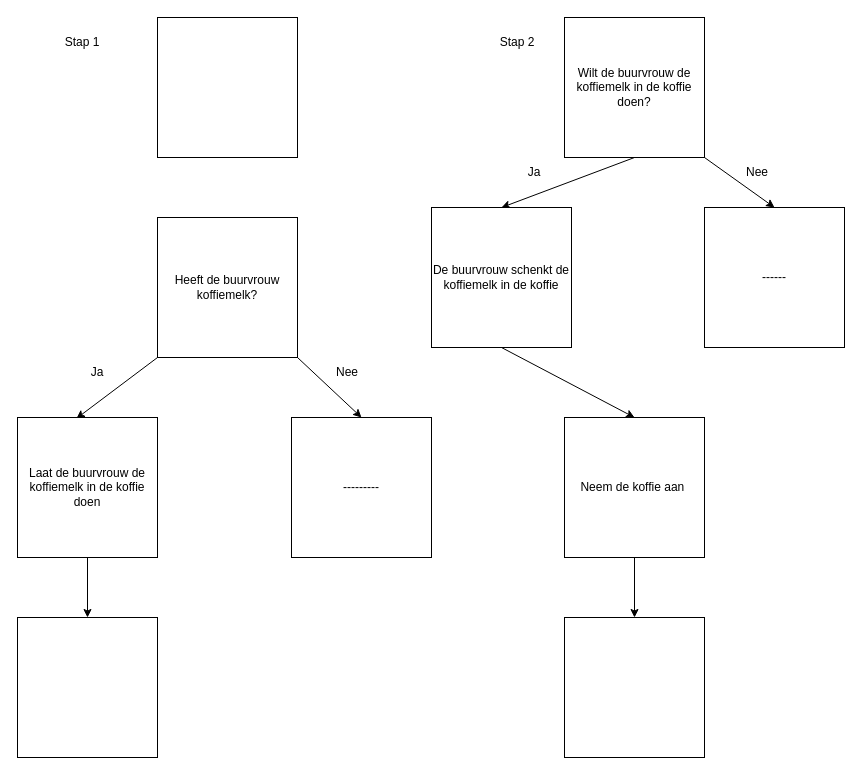
This 862x775 diagram has some shape labels left out. The shapes that lost their labels are listed below. From the top down, each one's centre as x and y in pixels, then its label:
point (227, 87): Loop naar de buurvrouw voor koffiemelk
point (87, 687): Geef de koffie aan de buurvrouw
point (634, 687): Loop terug naar huis
